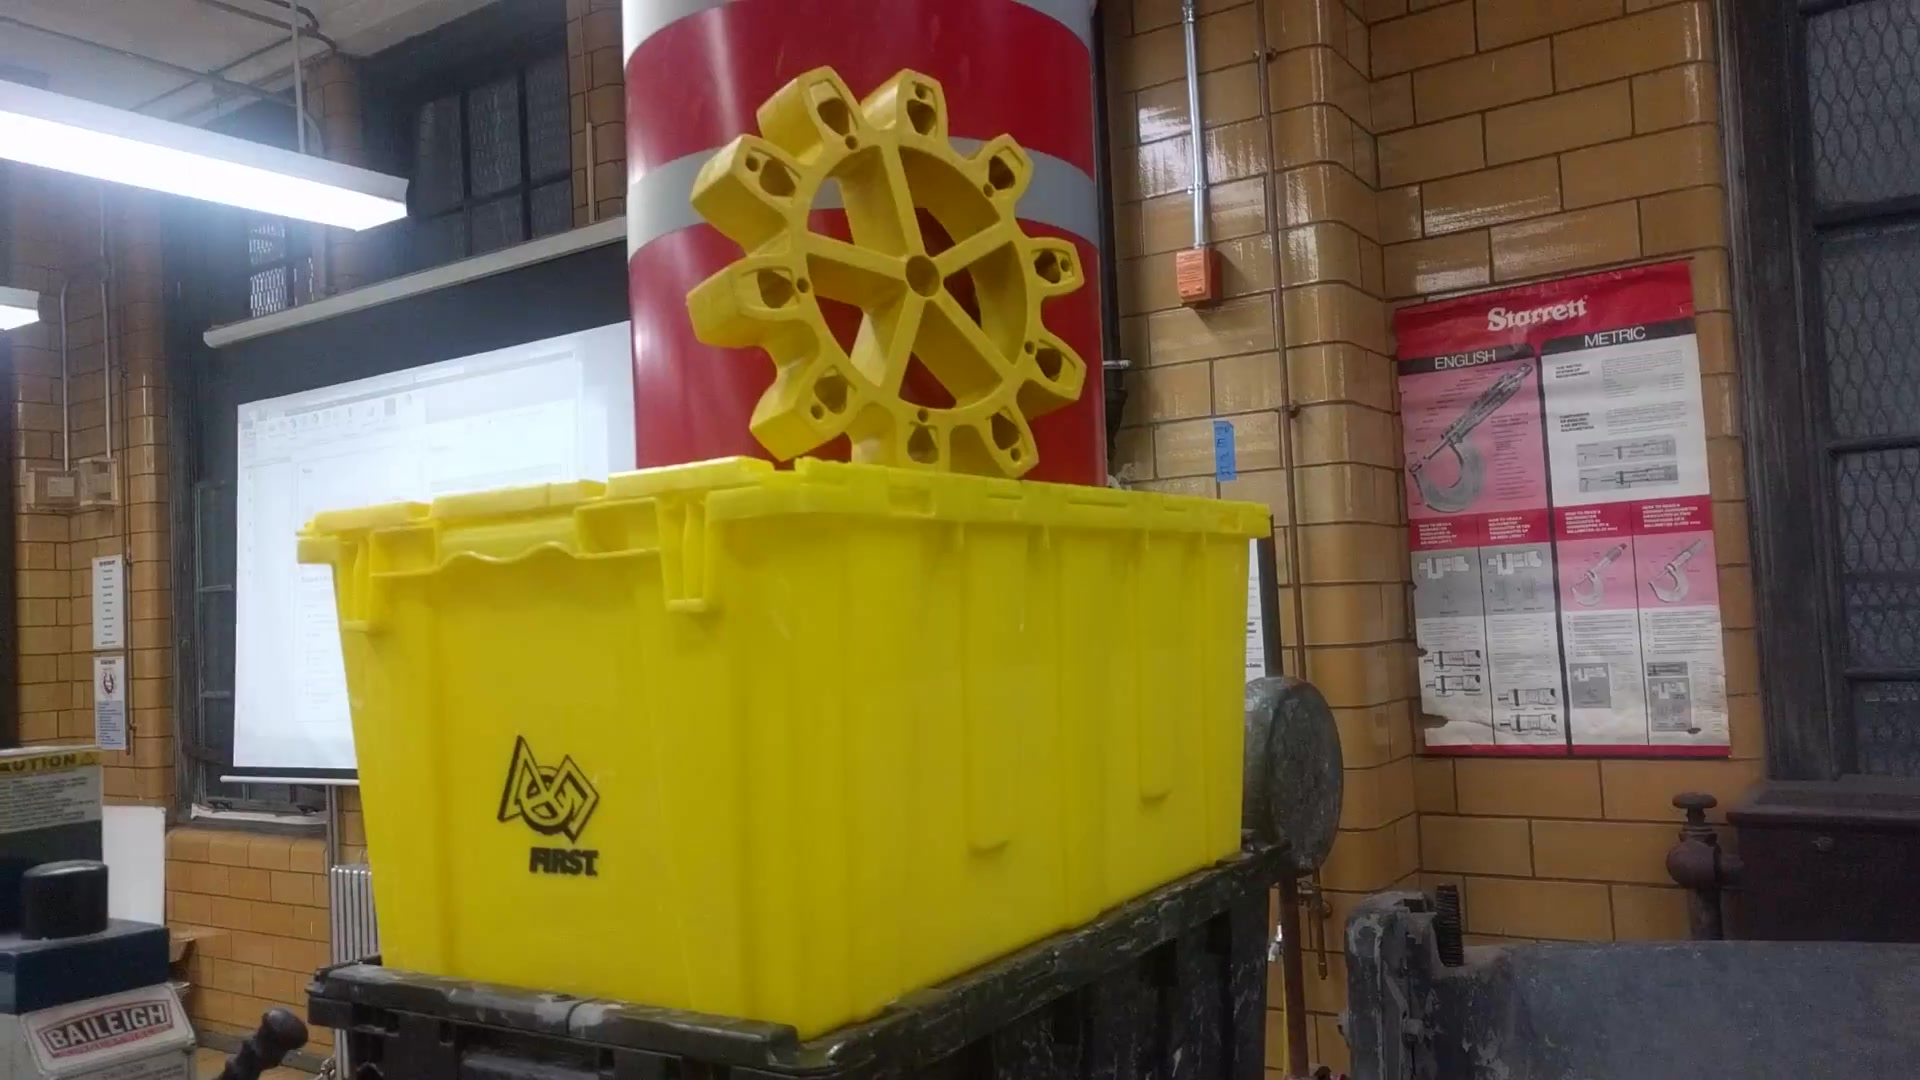gear: (684, 55, 1091, 495)
